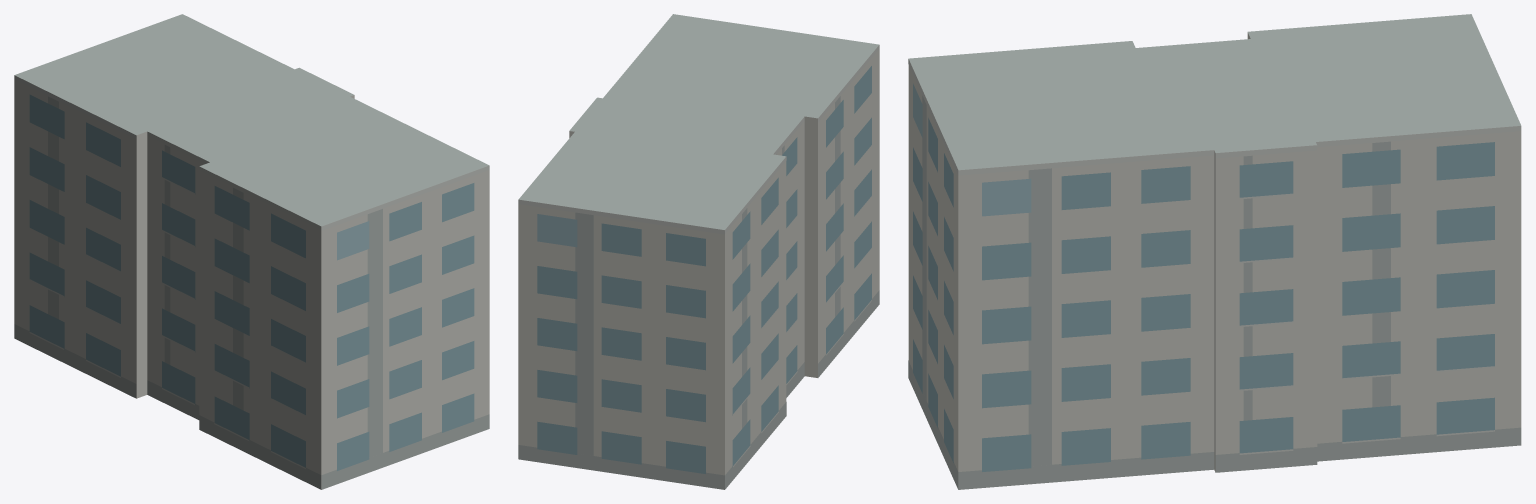
Rendered from survey-upis-32593232.glb.
3 renders of one model, left to right at view 1: azimuth 30°, elevation 25°; view 2: azimuth 150°, elevation 25°; view 3: azimuth 270°, elevation 25°, orthographic. The views are drawn at different scales.
Parts seen in each view (by area): view 1: survey-upis-32593232.tmp; view 2: survey-upis-32593232.tmp; view 3: survey-upis-32593232.tmp.
Part boxes in pixels (bbox=[...]): survey-upis-32593232.tmp: bbox=[14, 14, 489, 489]; survey-upis-32593232.tmp: bbox=[518, 14, 879, 489]; survey-upis-32593232.tmp: bbox=[908, 14, 1521, 489].
Size of the model in its own units: 14.9 by 14.2 by 24.69.
